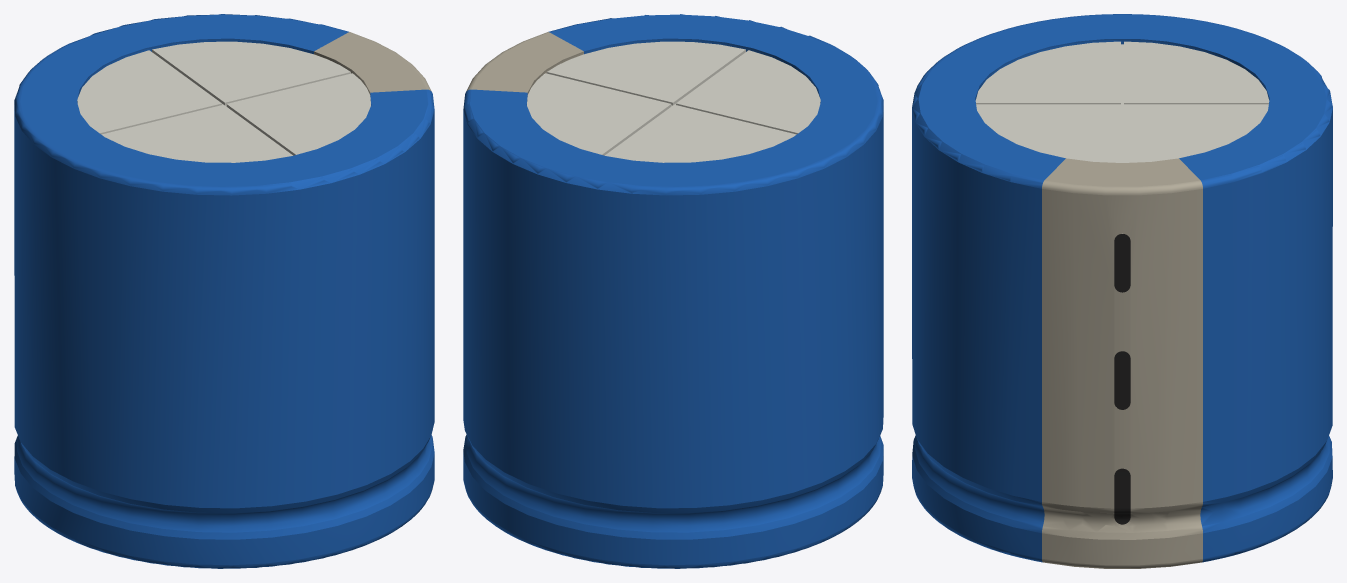
The model's file is kc-cp_radial_d13.0mm_p2.50mm.glb.
3 views of the same model, side by side, from view 1: azimuth 30°, elevation 25°; view 2: azimuth 150°, elevation 25°; view 3: azimuth 270°, elevation 25° (orthographic).
Parts seen in each view (by area): view 1: 0_0.16666666666666666_0.5_0, 0.6666666666666666_0.6666666666666666_0.5833333333333334_0.8, 0.4166666666666667_0.4166666666666667_0.3333333333333333_0; view 2: 0_0.16666666666666666_0.5_0, 0.6666666666666666_0.6666666666666666_0.5833333333333334_0.8, 0.4166666666666667_0.4166666666666667_0.3333333333333333_0; view 3: 0_0.16666666666666666_0.5_0, 0.4166666666666667_0.4166666666666667_0.3333333333333333_0, 0.6666666666666666_0.6666666666666666_0.5833333333333334_0.8, 0_0_0_0.
Boxes of the visible parts, box(x1,y1,x2,y2) form: 0_0.16666666666666666_0.5_0: box(14, 14, 434, 568); 0.6666666666666666_0.6666666666666666_0.5833333333333334_0.8: box(77, 41, 370, 162); 0.4166666666666667_0.4166666666666667_0.3333333333333333_0: box(314, 32, 431, 94); 0_0.16666666666666666_0.5_0: box(463, 14, 883, 568); 0.6666666666666666_0.6666666666666666_0.5833333333333334_0.8: box(527, 41, 820, 162); 0.4166666666666667_0.4166666666666667_0.3333333333333333_0: box(466, 32, 583, 94); 0_0.16666666666666666_0.5_0: box(912, 14, 1332, 562); 0.4166666666666667_0.4166666666666667_0.3333333333333333_0: box(1042, 158, 1202, 568); 0.6666666666666666_0.6666666666666666_0.5833333333333334_0.8: box(975, 41, 1269, 162); 0_0_0_0: box(1114, 234, 1130, 524).
Size of the model in its own units: 1.3 by 1.5 by 1.3.
